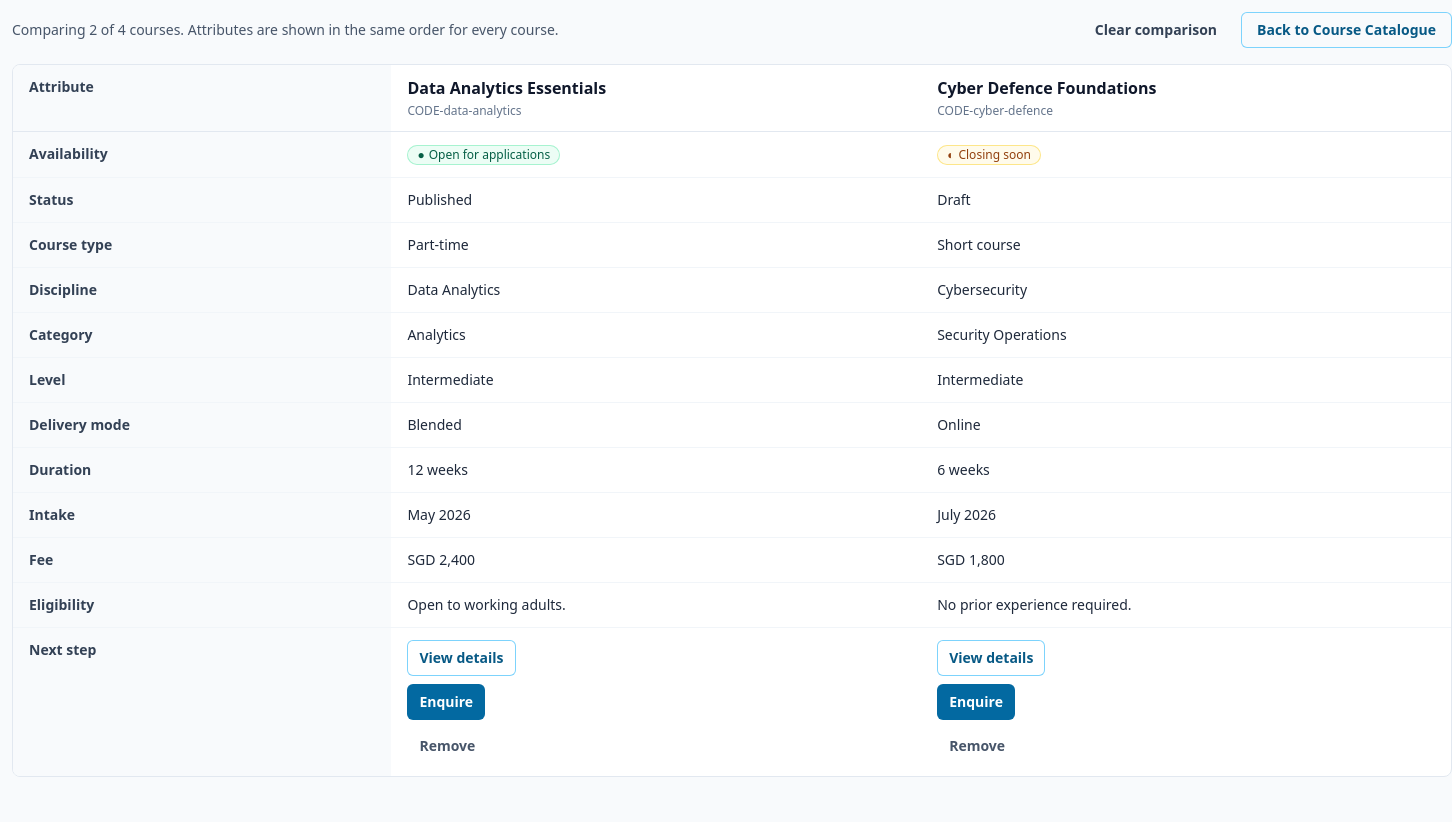
Test: ComparisonView with a selection › lets the user clear the whole comparison
This screenshot has width=1452, height=822.
Click the button "Clear comparison". click: click(1156, 30)
box: [1079, 12, 1233, 48]
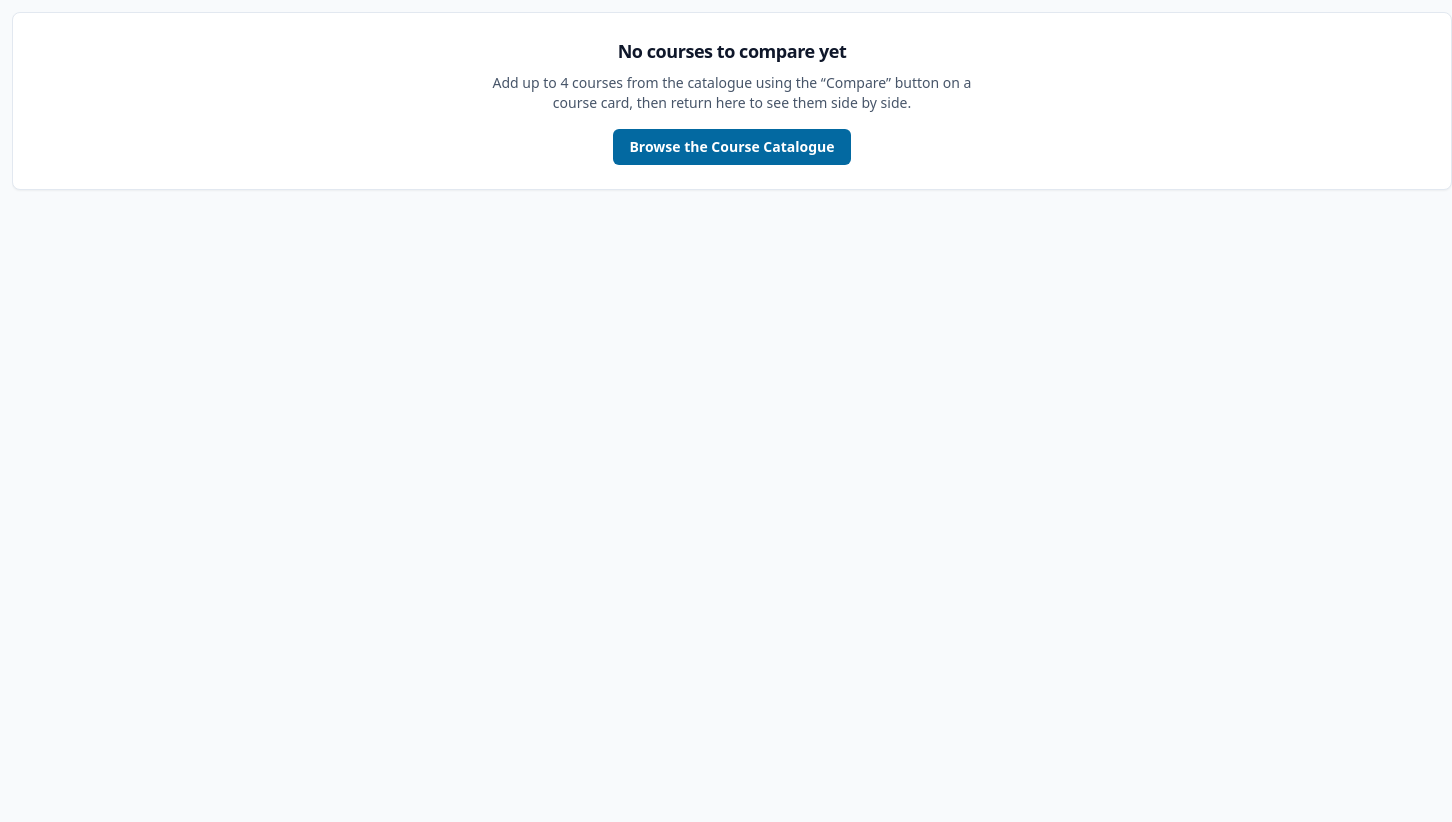
Now the heading "No courses to compare yet" is shown, box [618, 39, 846, 63]
